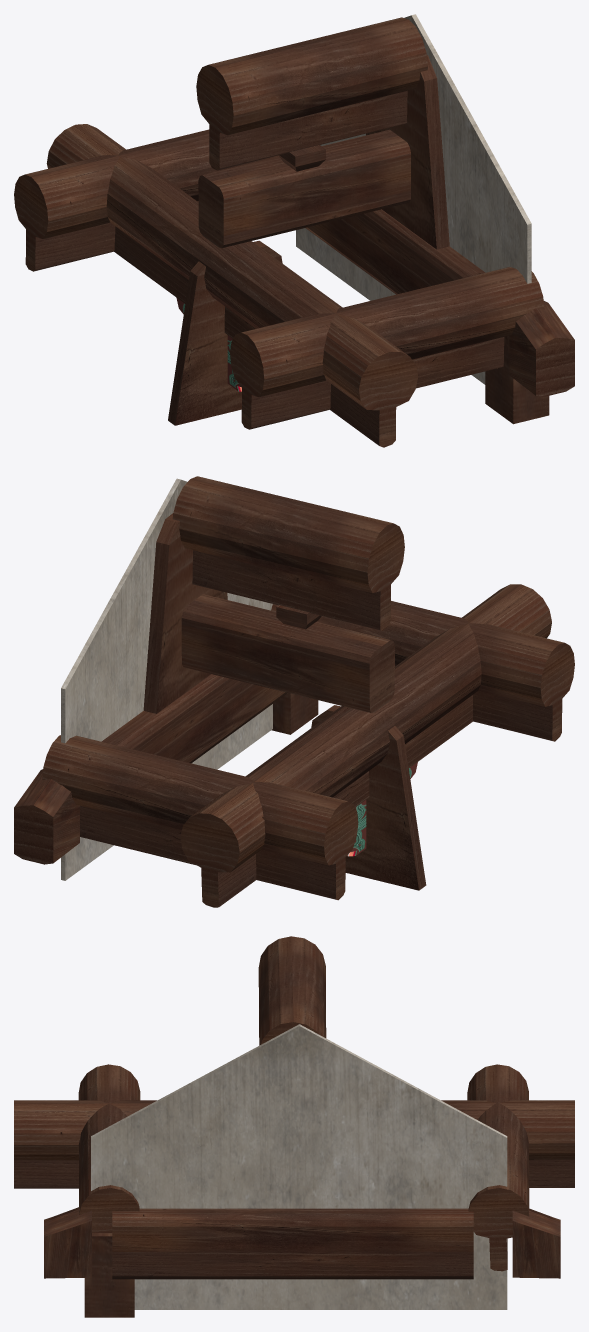
Rendered from SM_R_MiddleBeam_25.fbx.
3 views of the same model, one above another, from view 1: azimuth 30°, elevation 25°; view 2: azimuth 150°, elevation 25°; view 3: azimuth 270°, elevation 25° (orthographic). The views are drawn at different scales.
Parts seen in each view (by area): view 1: SM_R_MiddleBeam_25; view 2: SM_R_MiddleBeam_25; view 3: SM_R_MiddleBeam_25.
Boxes of the visible parts, x1=… form: SM_R_MiddleBeam_25: x1=14, y1=14, x2=574, y2=447; SM_R_MiddleBeam_25: x1=14, y1=476, x2=574, y2=907; SM_R_MiddleBeam_25: x1=14, y1=936, x2=574, y2=1317.
Size of the model in its own units: 181 by 330 by 204.
6 materials, 6 textured.
